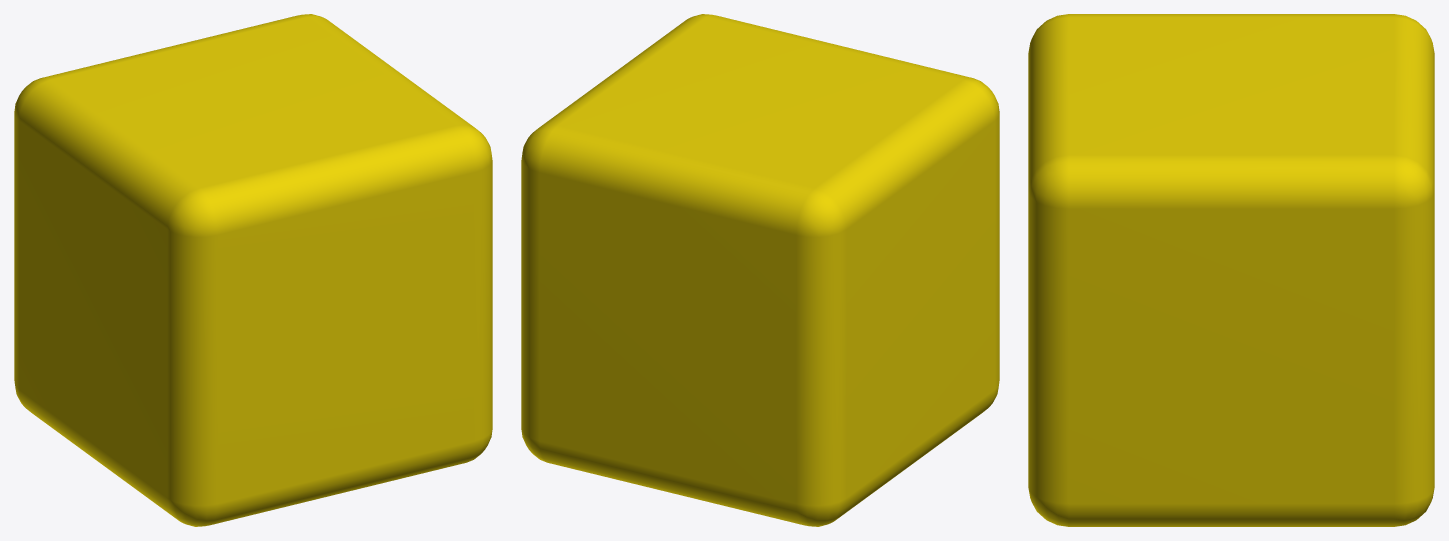
3 renders of one model, left to right at view 1: azimuth 30°, elevation 25°; view 2: azimuth 150°, elevation 25°; view 3: azimuth 270°, elevation 25°, orthographic. The views are drawn at different scales.
Parts seen in each view (by area): view 1: pCube1; view 2: pCube1; view 3: pCube1.
Boxes of the visible parts, bbox=[...] form: pCube1: bbox=[14, 14, 492, 526]; pCube1: bbox=[521, 14, 999, 526]; pCube1: bbox=[1028, 14, 1434, 526].
Bounding box in the file's own units: 100 × 100 × 100.
